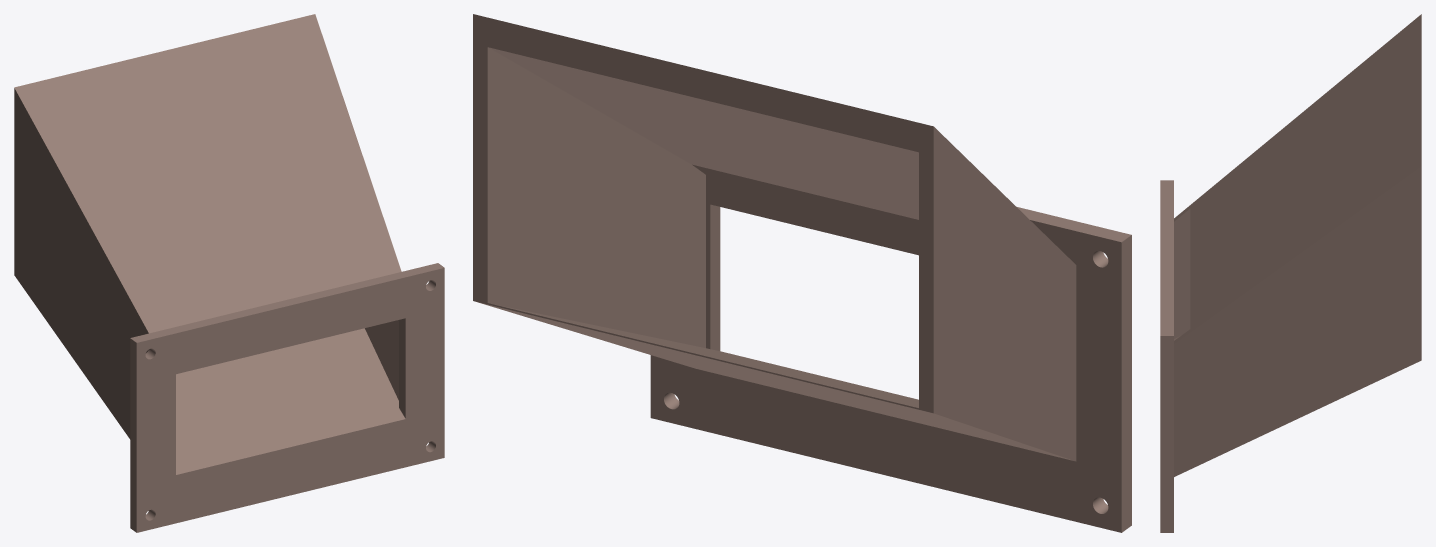
File: ali_chute.glb
3 views of the same model, side by side, from view 1: azimuth 30°, elevation 25°; view 2: azimuth 150°, elevation 25°; view 3: azimuth 270°, elevation 25° (orthographic). The views are drawn at different scales.
Visible parts, largest first — view 1: world; view 2: world; view 3: world.
Boxes of the visible parts, x1=… form: world: x1=14, y1=14, x2=444, y2=532; world: x1=473, y1=14, x2=1131, y2=532; world: x1=1160, y1=14, x2=1421, y2=532.
Size of the model in its own units: 134 by 146 by 95.
